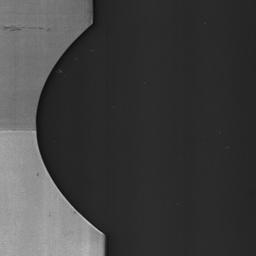Crescent gap: (35, 24, 103, 233)
